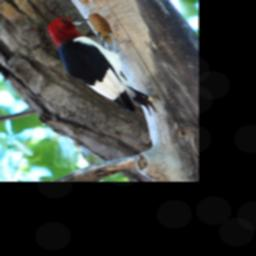Woodpecker: (50, 16, 160, 116)
